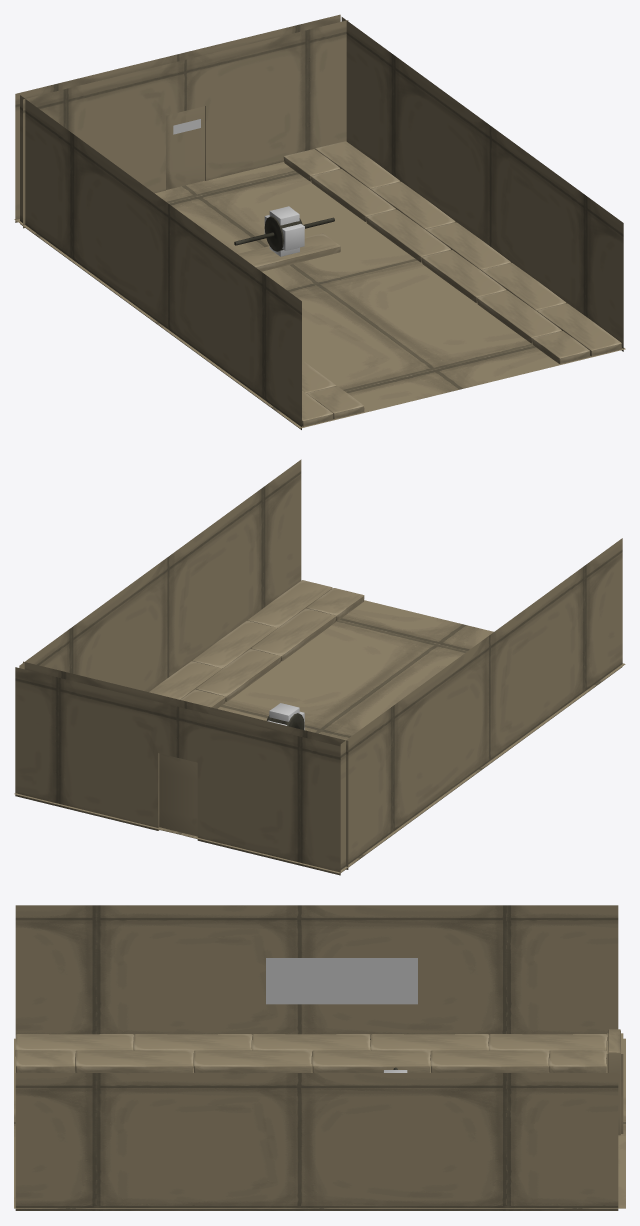
Rendered from HarmonyPuzzle_Props.fbx.
3 views of the same model, one above another, from view 1: azimuth 30°, elevation 25°; view 2: azimuth 150°, elevation 25°; view 3: azimuth 270°, elevation 25° (orthographic). The views are drawn at different scales.
Visible parts, largest first — view 1: Sides Walls, Floor, Gate Wall, Ston Side, Gate, Stone Side 2, Main Stone, Wheel; view 2: Sides Walls, Gate Wall, Floor, Ston Side, Gate; view 3: Sides Walls, Stone Side 2, Wall Letter, Floor, Gate.
Boxes of the visible parts, x1,y1,x2,y2 form: Sides Walls: (20,17,623,429); Floor: (14,162,625,428); Gate Wall: (15,14,348,228); Ston Side: (283,141,621,364); Gate: (166,106,204,189); Stone Side 2: (302,360,364,426); Main Stone: (238,233,340,271); Wheel: (264,216,302,251); Sides Walls: (19,459,622,872); Gate Wall: (15,661,348,875); Floor: (14,600,625,873); Ston Side: (149,580,364,708); Gate: (159,753,197,838); Sides Walls: (15,905,618,1210); Stone Side 2: (15,1034,607,1072); Wall Letter: (266,958,417,1004); Floor: (14,1038,625,1208); Gate: (608,1029,620,1135).
Bounding box in the file's own units: 1579 × 598 × 2403.
